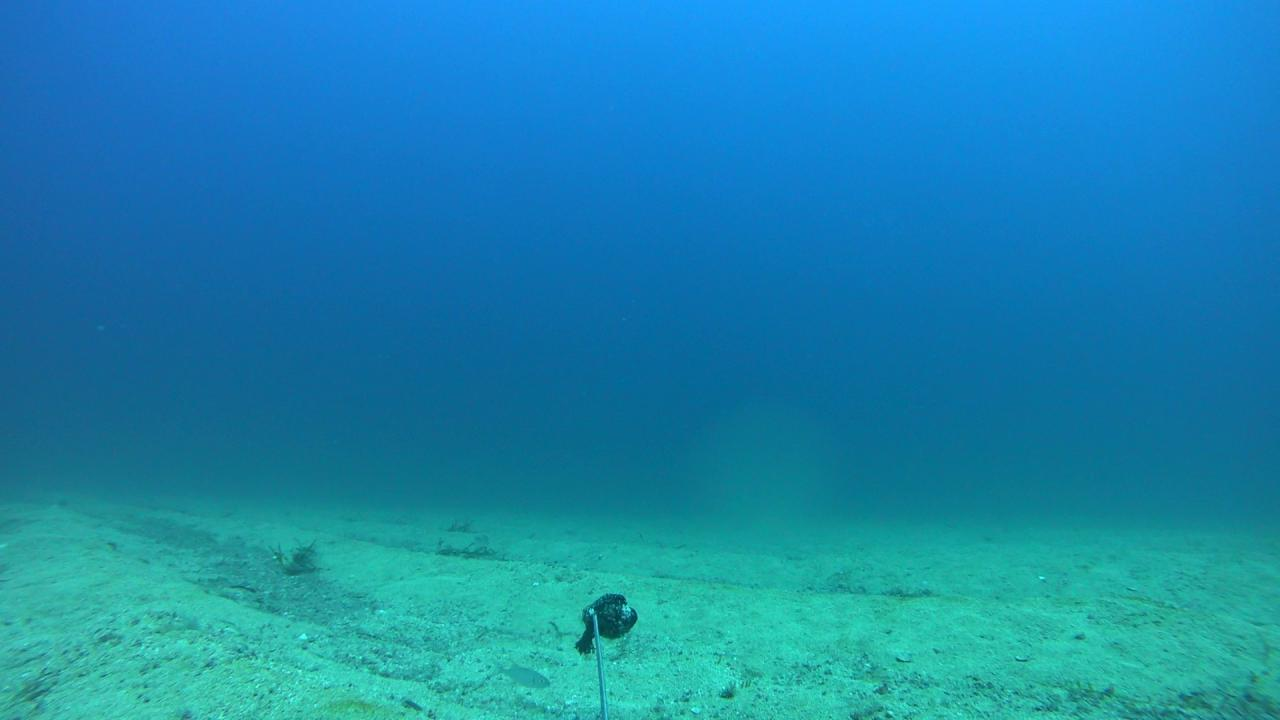pagellus: (488, 661, 548, 689)
